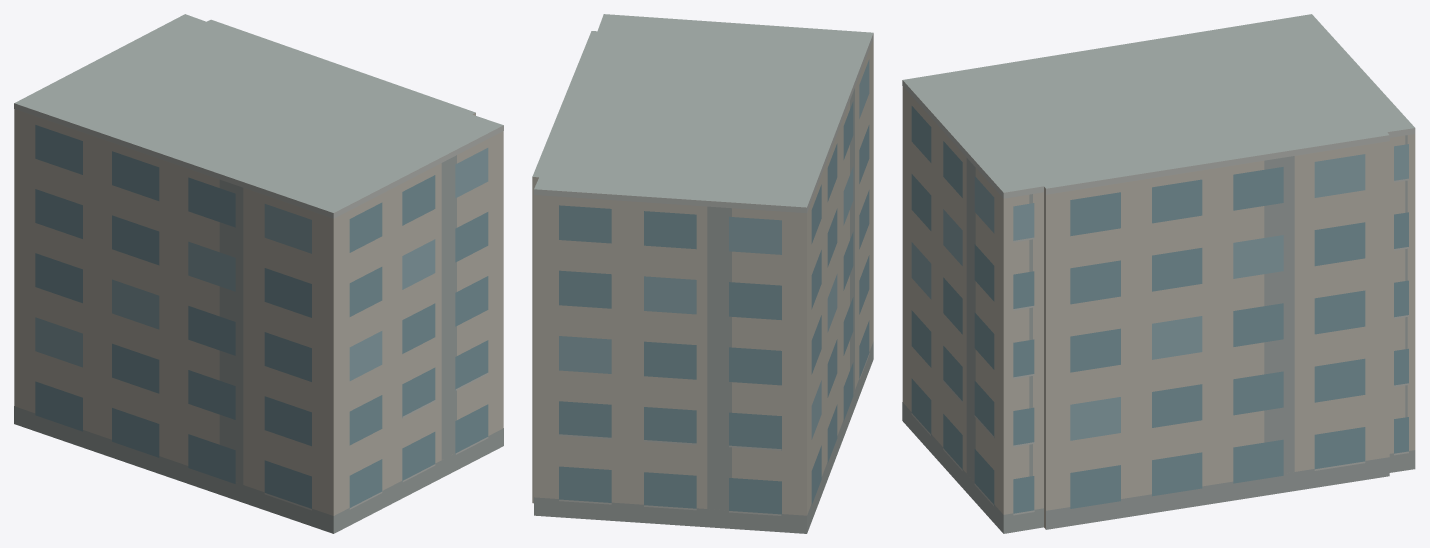
Rendered from survey-upis-32524717.glb.
3 renders of one model, left to right at view 1: azimuth 30°, elevation 25°; view 2: azimuth 150°, elevation 25°; view 3: azimuth 270°, elevation 25°, orthographic. The views are drawn at different scales.
Visible parts, largest first — view 1: survey-upis-32524717.tmp; view 2: survey-upis-32524717.tmp; view 3: survey-upis-32524717.tmp.
Part boxes in pixels (box(x1,y1,x2,y2)): survey-upis-32524717.tmp: box(14, 14, 503, 533); survey-upis-32524717.tmp: box(532, 14, 873, 533); survey-upis-32524717.tmp: box(902, 14, 1415, 533).
Size of the model in its own units: 15.7 by 13.95 by 19.02.
